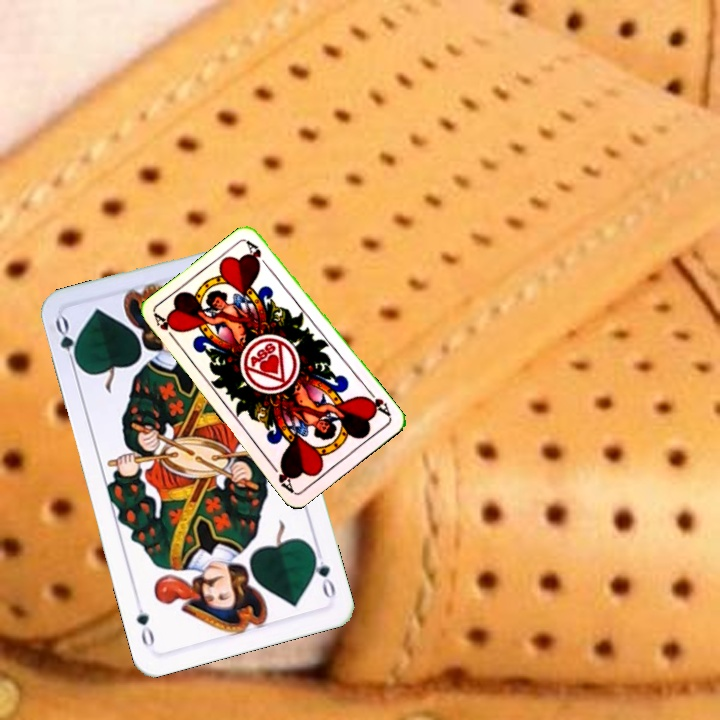GO: (51, 313, 83, 372), (308, 545, 338, 601)
HA: (359, 385, 393, 420), (150, 310, 182, 346)
